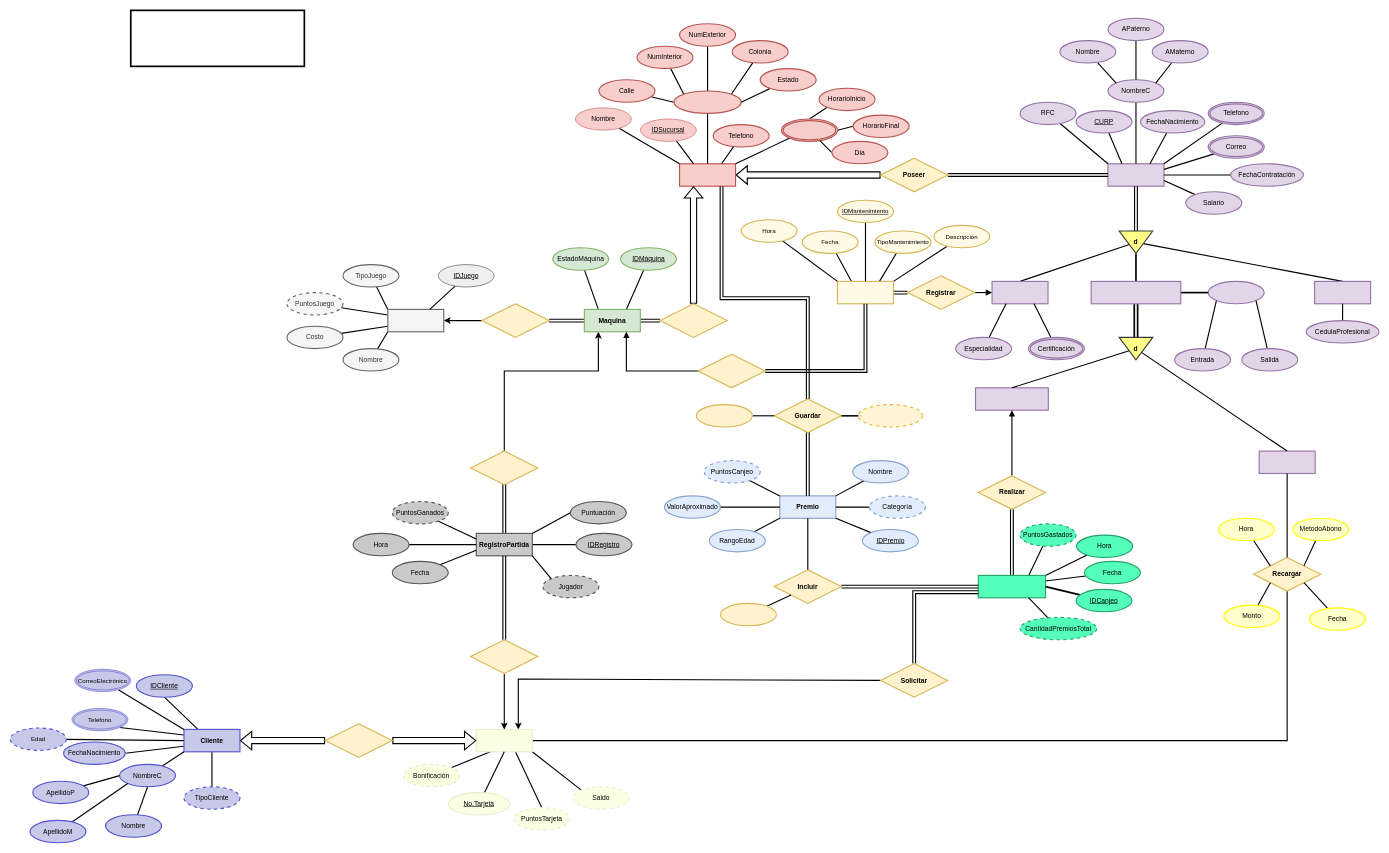
The diagram is 1389 pixels wide and 853 high, and some of its shapes have lost their labels. Here are the shapes that lost their labels. From the top down, the box of each, then its label:
(130, 9, 305, 67): Práctica 5 Enmoladas
(673, 90, 741, 114): DireccionCompleta
(781, 118, 838, 142): Horarios
(679, 163, 736, 186): Sucursal
(1107, 163, 1164, 186): Empleado
(837, 281, 894, 304): Mantenimiento
(991, 281, 1048, 304): Técnico
(1090, 281, 1181, 304): EmpleadoConHorario
(1207, 281, 1264, 304): Horario
(1314, 281, 1371, 304): Gerente
(387, 309, 444, 332): Juego
(481, 303, 549, 338): Corresponder
(659, 303, 727, 338): Tener
(697, 353, 766, 388): Necesitar
(696, 404, 753, 427): CantidadInicial
(857, 404, 923, 427): CantidadDisponible
(975, 387, 1049, 410): EncargadoPremios
(470, 450, 538, 485): Crear
(1258, 450, 1315, 474): Cajero
(977, 575, 1046, 598): Canje
(720, 603, 777, 626): Cantidad
(470, 639, 538, 674): Asignar
(324, 723, 393, 758): Pertenecer
(475, 729, 533, 752): Tarjeta
